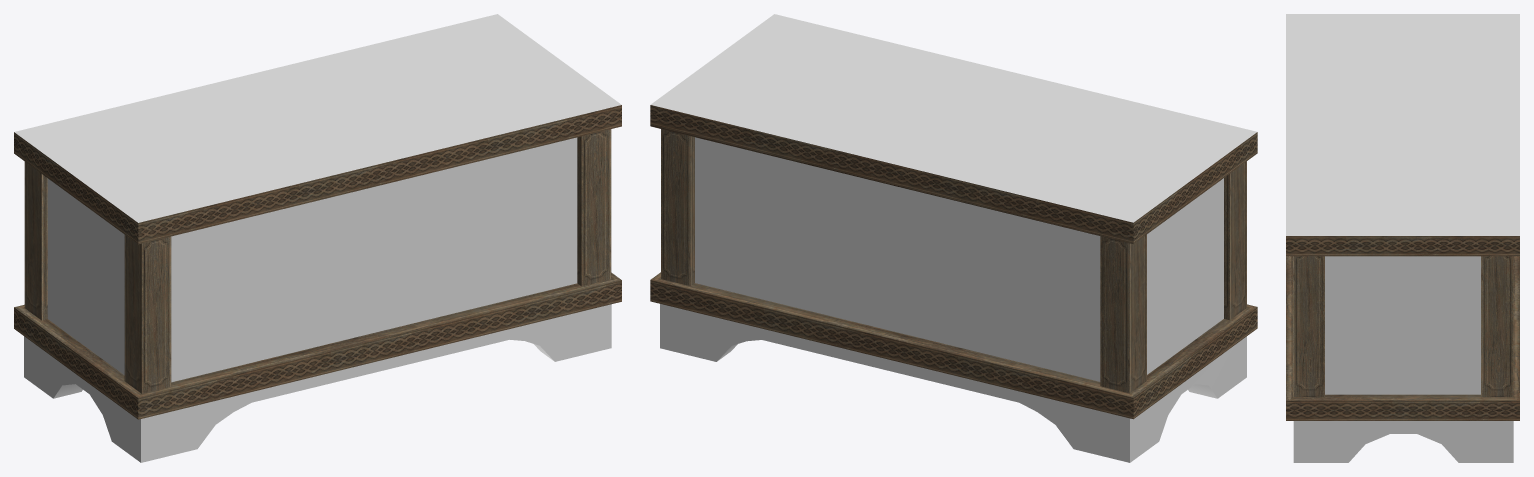
File: trunk4.fbx
The picture shows the model from 3 angles, left to right: view 1: azimuth 30°, elevation 25°; view 2: azimuth 150°, elevation 25°; view 3: azimuth 270°, elevation 25°; orthographic projection. The views are drawn at different scales.
Parts seen in each view (by area): view 1: polySurface1503; view 2: polySurface1503; view 3: polySurface1503.
Part boxes in pixels (bbox=[...]): polySurface1503: bbox=[14, 14, 621, 462]; polySurface1503: bbox=[650, 14, 1257, 462]; polySurface1503: bbox=[1286, 14, 1519, 462].
Size of the model in its own units: 1.24 by 0.5972 by 0.5499.
